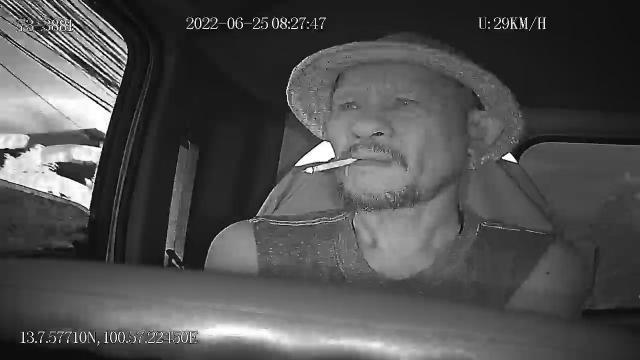SafeDriving: (385, 90, 426, 118), (335, 93, 366, 116)
Smoking: (302, 156, 358, 176)
